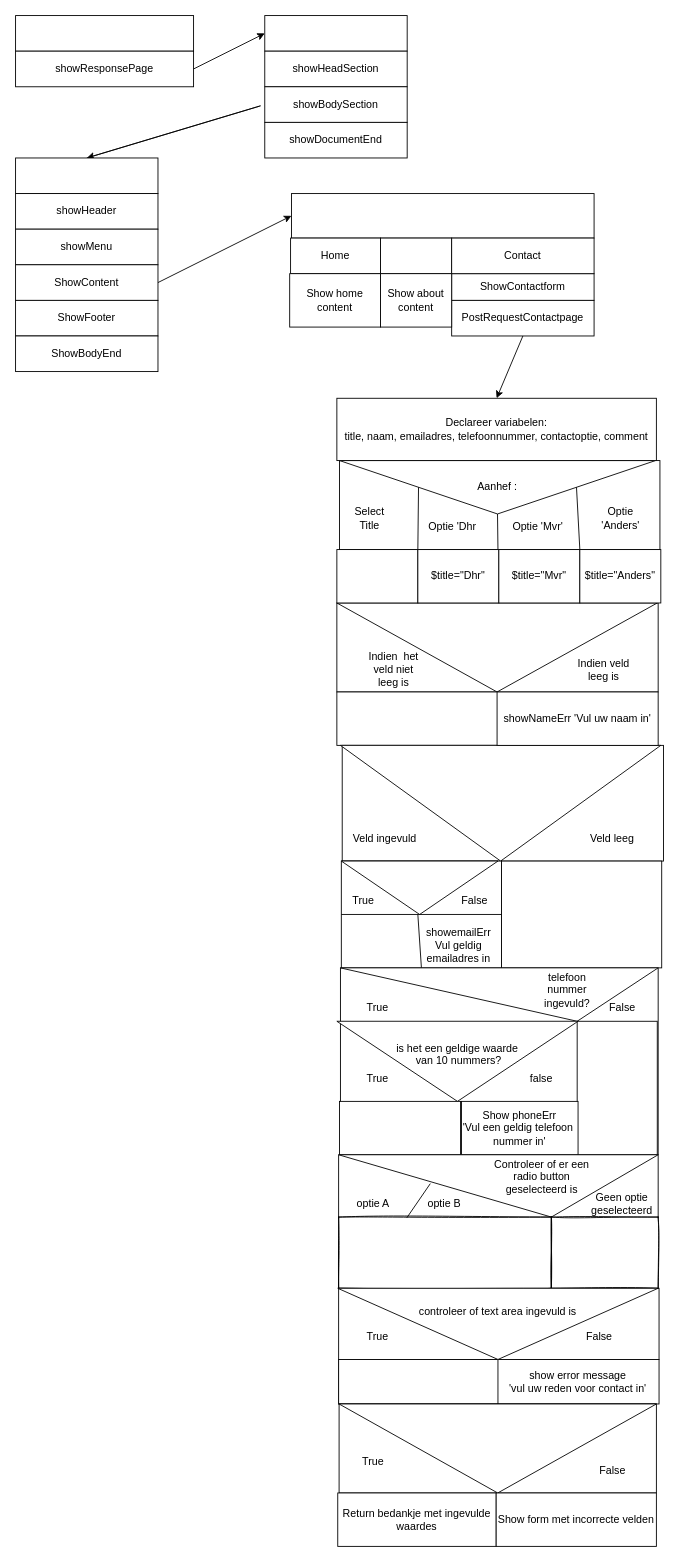
The diagram is 679 pixels wide and 1562 high, and some of its shapes have lost their labels. The box of each missing label's shape, as (x1, y1, x2, y2) in pixels:
About: (380, 237, 452, 274)
conditie: geldig email: (340, 860, 498, 914)
Controleer of veld 'Naam' niet leeg is: (336, 602, 657, 692)
getRequestedPage: (15, 15, 194, 51)
show Error 'Selecteer een contact optie': (550, 1216, 658, 1288)
show mailErr 'vul uw email in': (501, 860, 662, 968)
showBodyStart: (15, 157, 158, 194)
showDocumentStart: (264, 15, 407, 51)
showError 'Vul uw telefoonnummer in': (576, 1020, 657, 1155)
Switch: (291, 193, 594, 238)
TitleErr 'selecteer aanhef': (336, 549, 418, 603)
Valideer e-mail adres: (340, 744, 661, 861)
Zijn alle waardes goedgekeurd?: (338, 1403, 656, 1493)
